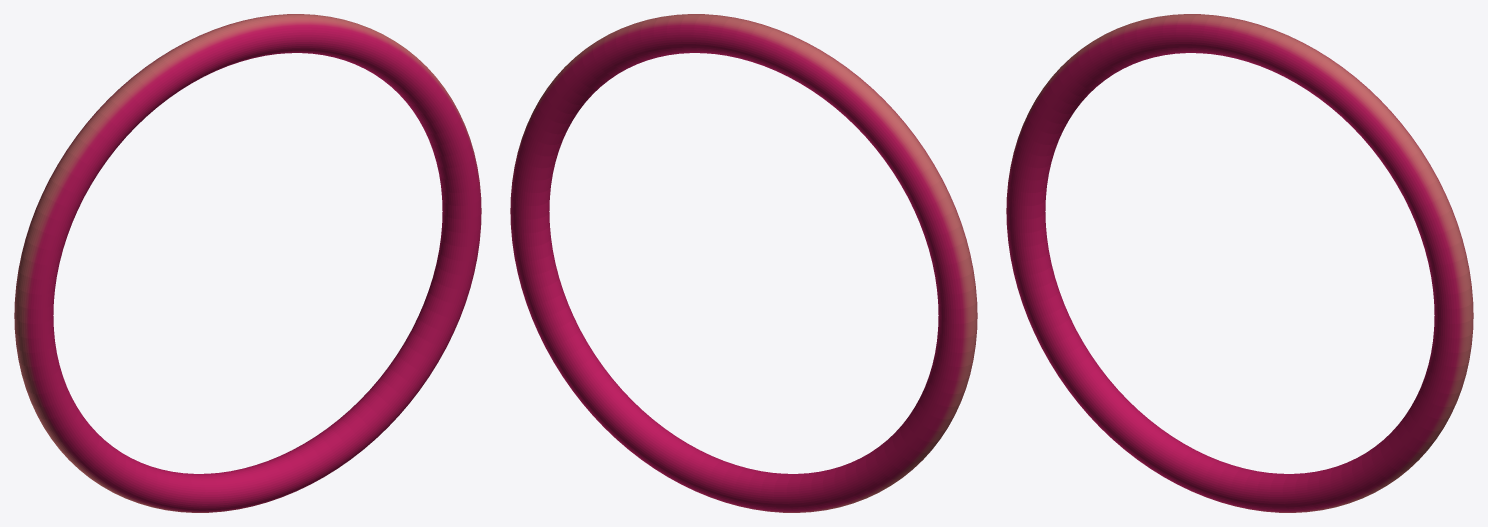
3 renders of one model, left to right at view 1: azimuth 30°, elevation 25°; view 2: azimuth 150°, elevation 25°; view 3: azimuth 330°, elevation 25°, orthographic.
Parts seen in each view (by area): view 1: world; view 2: world; view 3: world.
Boxes of the visible parts, x1=… form: world: x1=14, y1=14, x2=481, y2=512; world: x1=510, y1=14, x2=977, y2=512; world: x1=1006, y1=14, x2=1473, y2=512.
Size of the model in its own units: 30.93 by 30.93 by 2.26.
